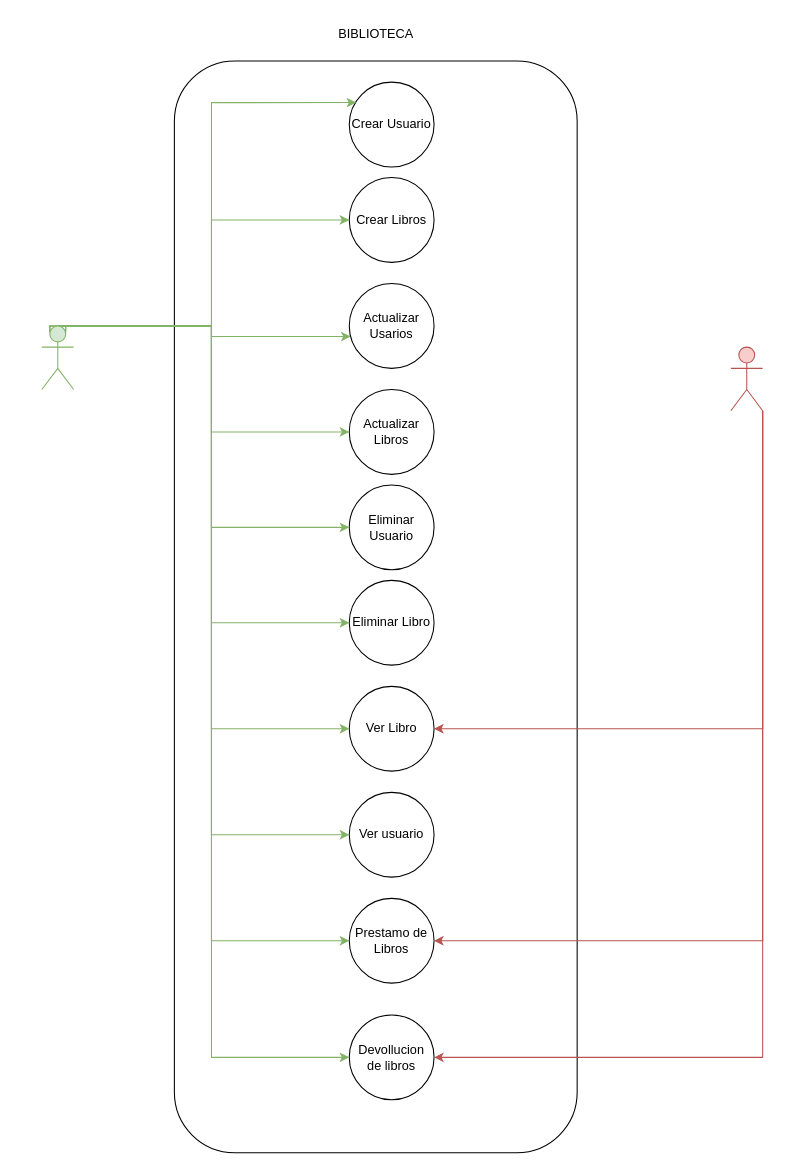
This 790x1171 diagram has some shape labels left out. Here are the shapes that lost their labels. From the top down, the centre of each, then its label:
At point (57, 357): "Administrador".
At point (746, 378): "Cajero".
